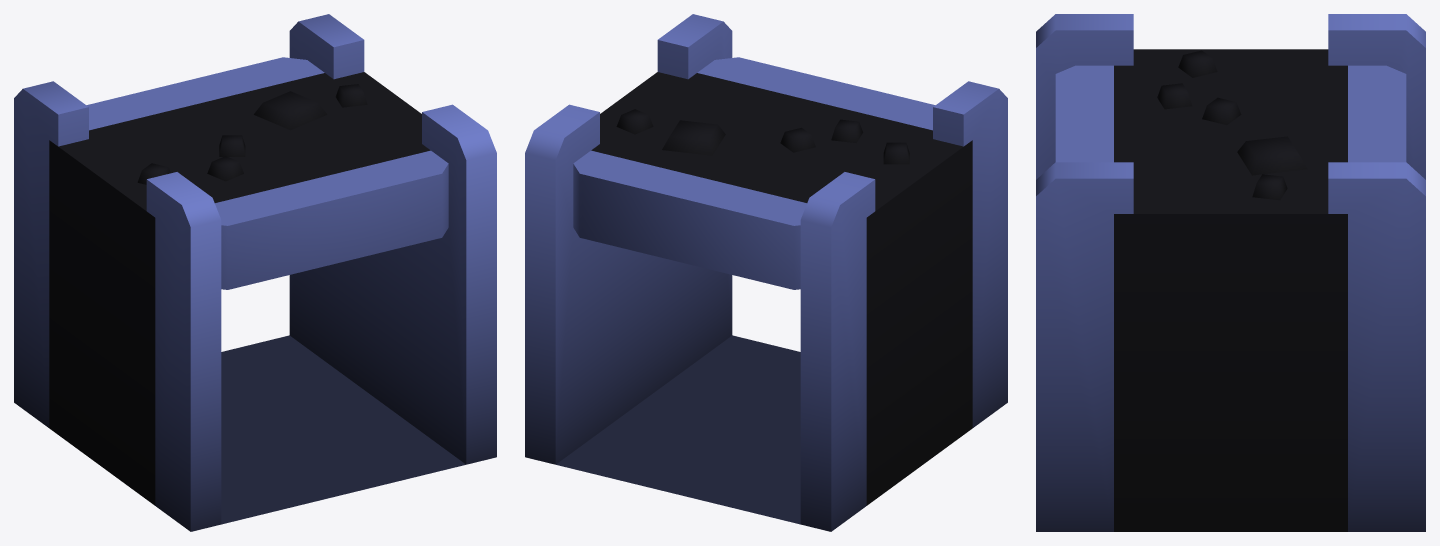
The model's file is wall-opening.fbx.
The picture shows the model from 3 angles, left to right: view 1: azimuth 30°, elevation 25°; view 2: azimuth 150°, elevation 25°; view 3: azimuth 270°, elevation 25°; orthographic projection. The views are drawn at different scales.
Parts seen in each view (by area): view 1: wall-opening; view 2: wall-opening; view 3: wall-opening.
Boxes of the visible parts, x1,y1,x2,y2 form: wall-opening: (14, 14, 496, 531); wall-opening: (525, 14, 1007, 531); wall-opening: (1036, 14, 1425, 531).
Bounding box in the file's own units: 10 × 10 × 10.
